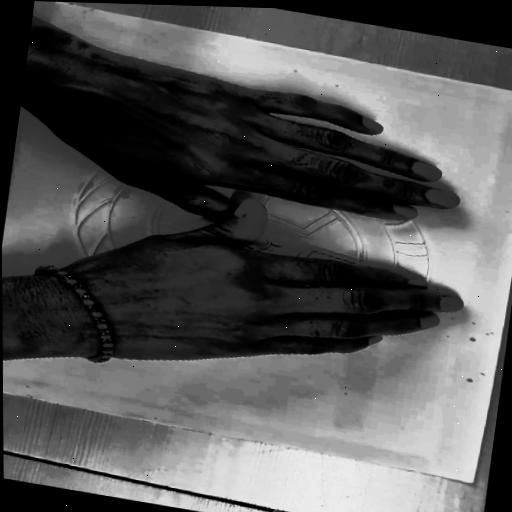bottom_left: (45, 1, 68, 9)
tire: (27, 101, 473, 381)
top_right: (461, 477, 479, 489)
